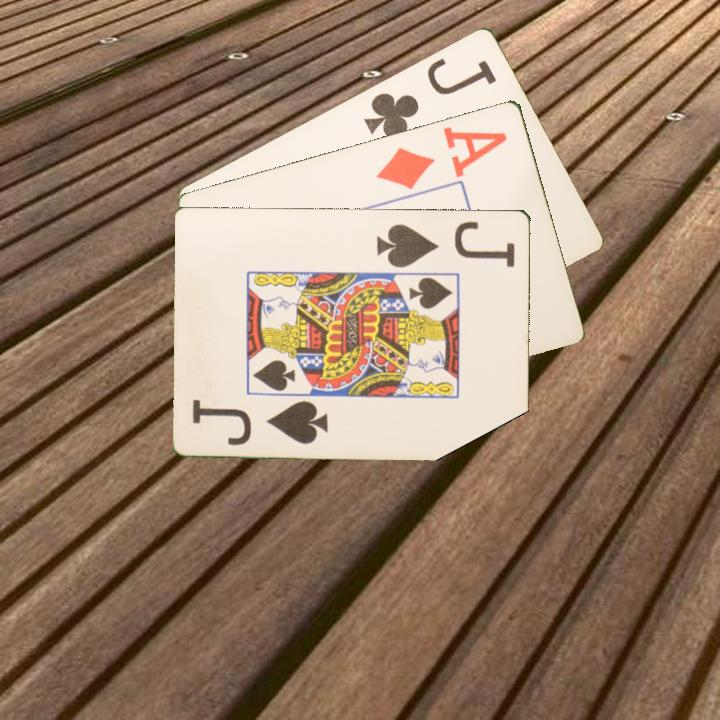Ad: (373, 122, 511, 192)
Jc: (360, 53, 500, 142)
Js: (374, 217, 519, 270), (189, 396, 331, 448)
